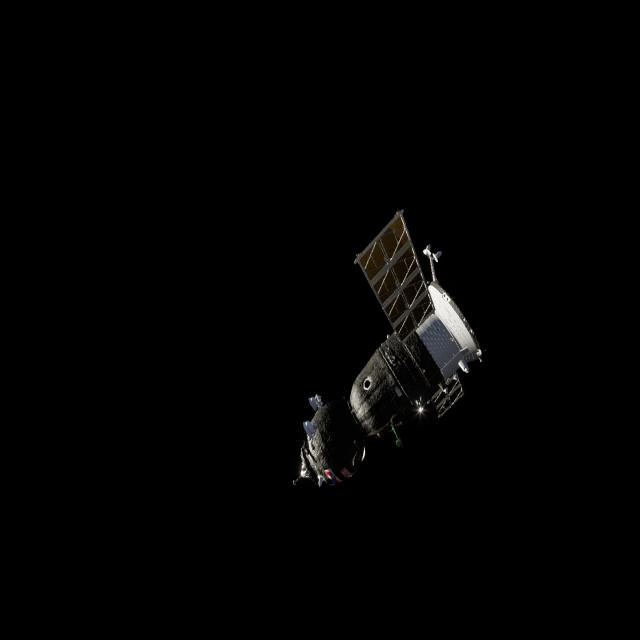Satellites revolving around earth: (292, 207, 484, 492)
